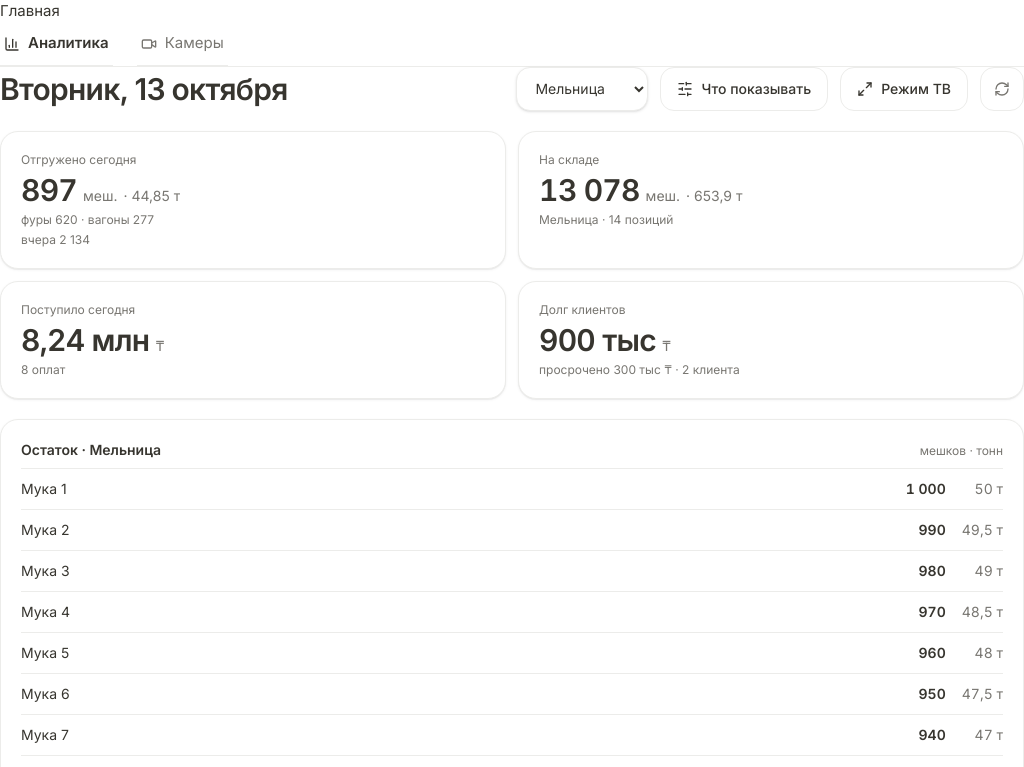
суперпользователь открывает выбор отделов и складов
This screenshot has width=1024, height=767.
Step 1. Click the button "Что показывать" → point(744, 88), box [660, 66, 828, 110]
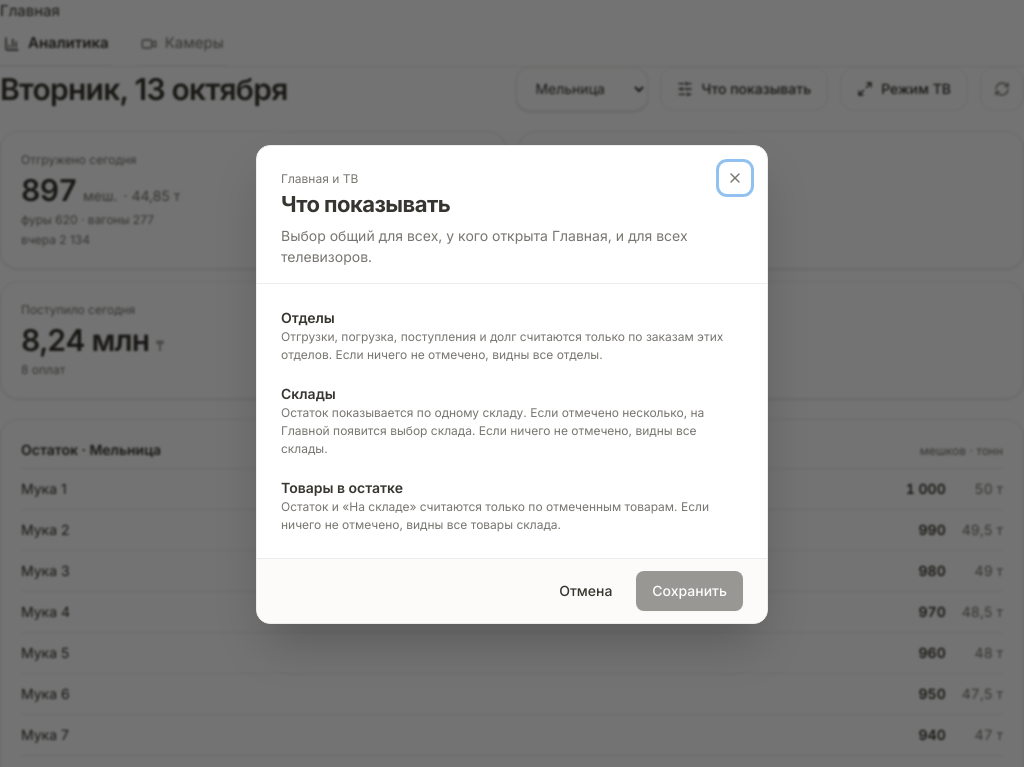
Result: the dialog "Что показывать" is shown at [256, 144, 768, 624]
Result: the text "Отделы" is shown at [281, 308, 335, 328]
Result: the text "Склады" is shown at [281, 384, 336, 404]
